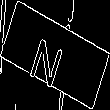N_NE: (34, 24, 76, 86)
